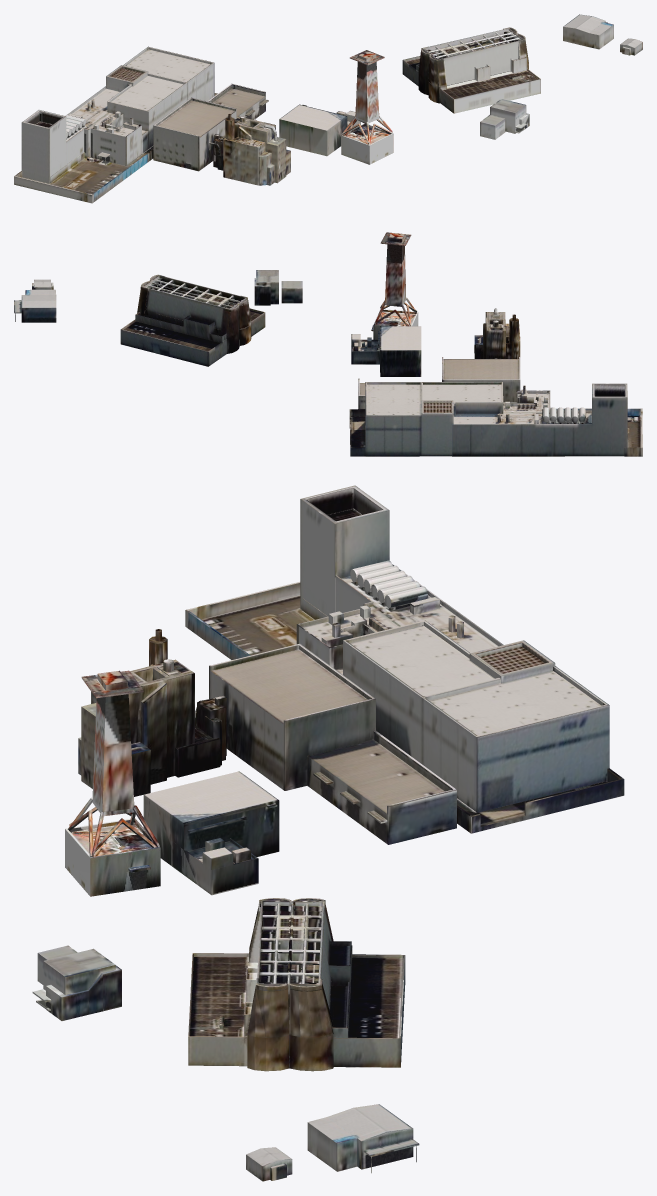
The model's file is 53392633_bldg_6677.fbx.
3 views of the same model, one above another, from view 1: azimuth 30°, elevation 25°; view 2: azimuth 150°, elevation 25°; view 3: azimuth 270°, elevation 25° (orthographic). The views are drawn at different scales.
Parts seen in each view (by area): view 1: surfaceMember (×39); view 2: surfaceMember (×26); view 3: surfaceMember (×40).
Part boxes in pixels (bbox=[...]): surfaceMember (×39): bbox=[14, 27, 588, 203]; surfaceMember (×26): bbox=[21, 244, 627, 456]; surfaceMember (×40): bbox=[44, 499, 624, 1169].
Bounding box in the file's own units: 313 × 131 × 48.91.
10 materials, 10 textured.
